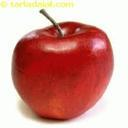apple: (14, 9, 114, 123)
